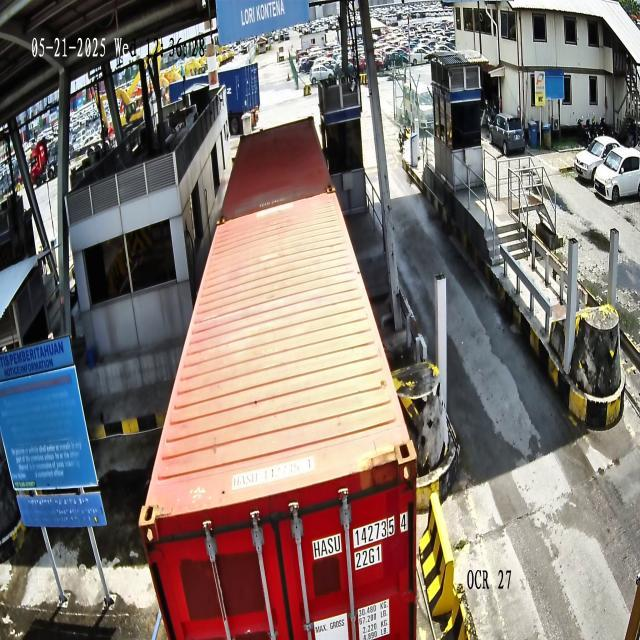ISO: (354, 546, 382, 570)
container_number: (312, 512, 408, 560)
